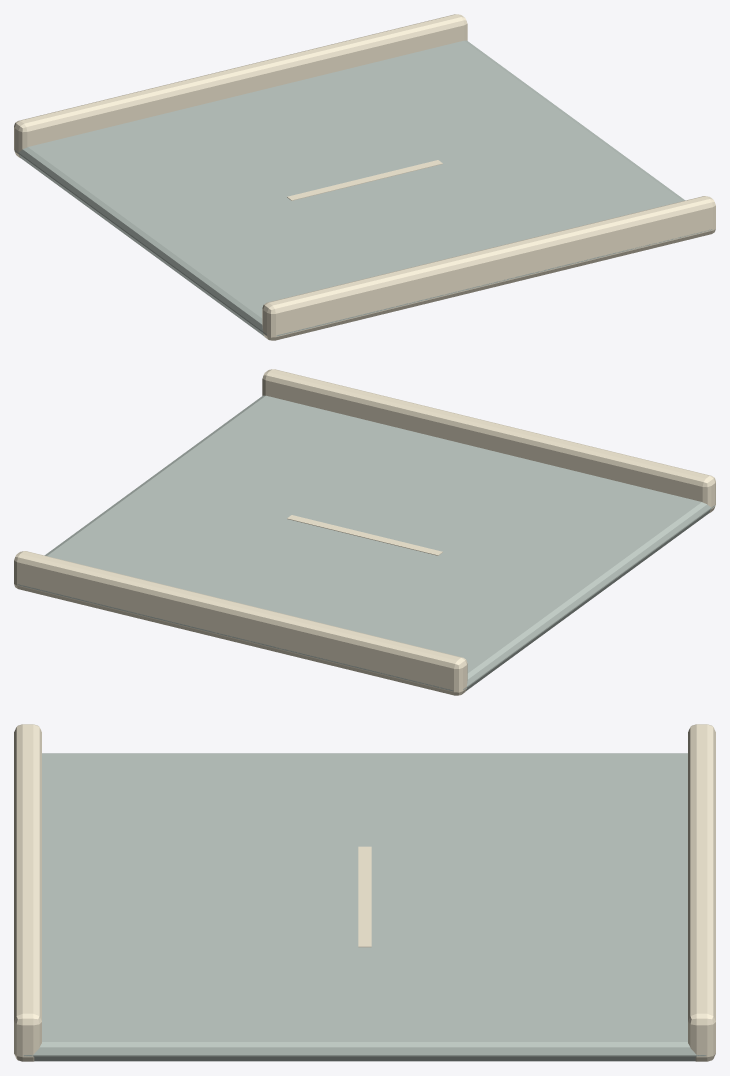
File: road-tile.glb
3 renders of one model, top to bottom at view 1: azimuth 30°, elevation 25°; view 2: azimuth 150°, elevation 25°; view 3: azimuth 270°, elevation 25°, orthographic. The views are drawn at different scales.
Parts seen in each view (by area): view 1: road-tile; view 2: road-tile; view 3: road-tile.
Boxes of the visible parts, x1,y1,x2,y2 form: road-tile: [14, 14, 715, 340]; road-tile: [14, 369, 715, 695]; road-tile: [14, 724, 715, 1061].
Bounding box in the file's own units: 4 × 0.3 × 4.
